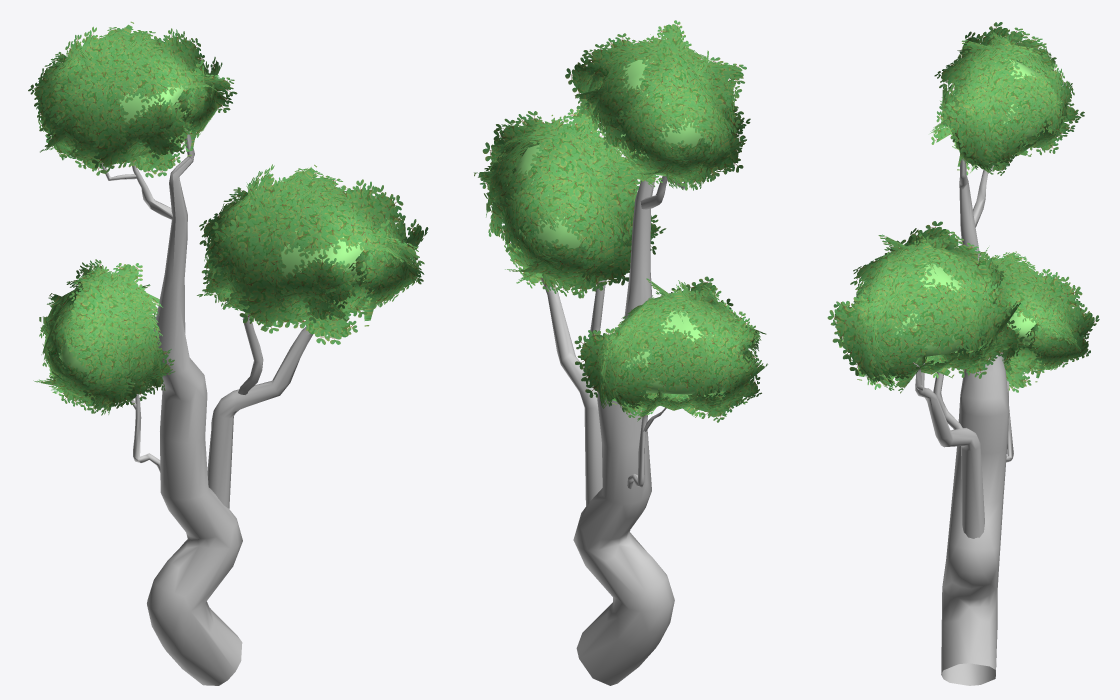
The model's file is SM_Navitree_B.fbx.
3 renders of one model, left to right at view 1: azimuth 30°, elevation 25°; view 2: azimuth 150°, elevation 25°; view 3: azimuth 270°, elevation 25°, orthographic. The views are drawn at different scales.
Visible parts, largest first — view 1: SM_Navitree_B; view 2: SM_Navitree_B; view 3: SM_Navitree_B.
Boxes of the visible parts, box(x1,y1,x2,y2) form: SM_Navitree_B: box(28, 21, 428, 685); SM_Navitree_B: box(474, 20, 767, 685); SM_Navitree_B: box(827, 22, 1099, 685).
Bounding box in the file's own units: 2065 × 3783 × 1609.
